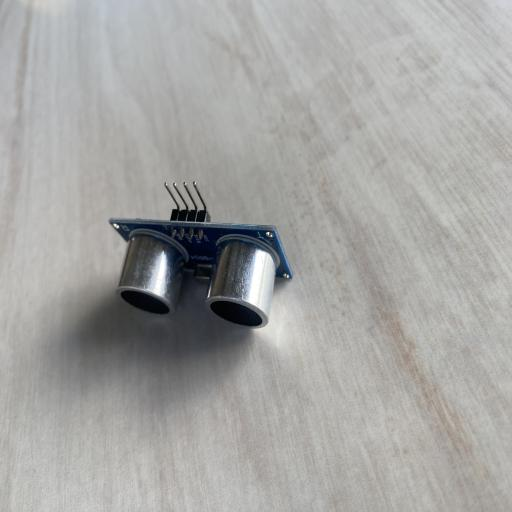Ultrasonic Sensor: (108, 179, 293, 329)
